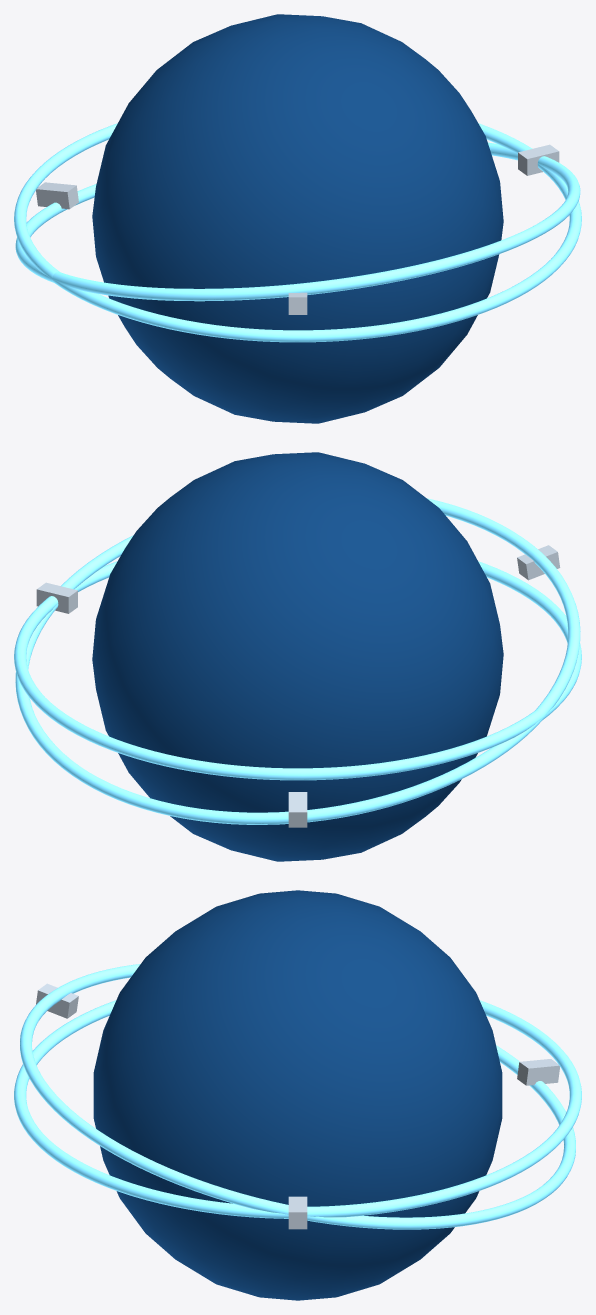
3 renders of one model, top to bottom at view 1: azimuth 30°, elevation 25°; view 2: azimuth 150°, elevation 25°; view 3: azimuth 270°, elevation 25°, orthographic.
Bounding box in the file's own units: 1.51 × 1.06 × 1.47.
